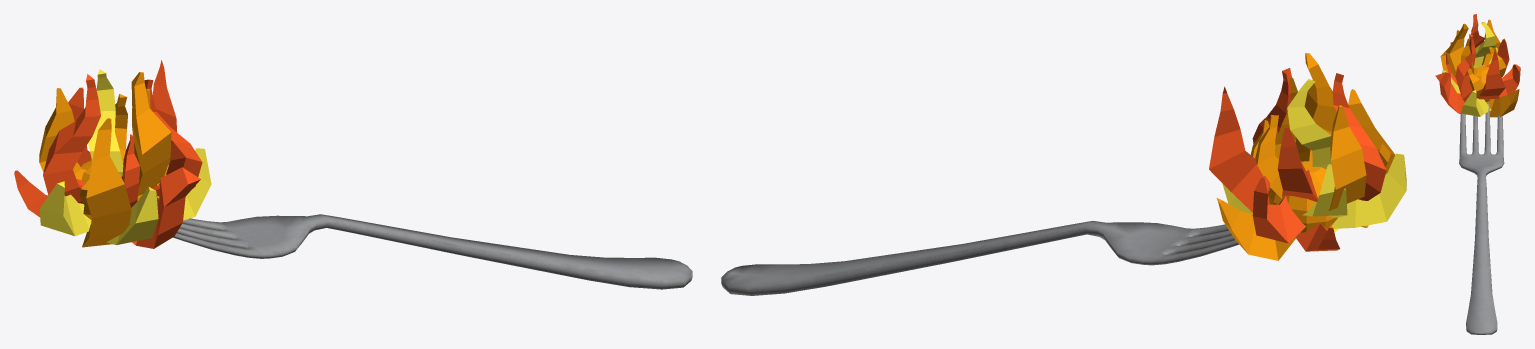
File: FireFork2.glb
3 renders of one model, left to right at view 1: azimuth 30°, elevation 25°; view 2: azimuth 150°, elevation 25°; view 3: azimuth 270°, elevation 25°, orthographic. The views are drawn at different scales.
Parts seen in each view (by area): view 1: Object_2, group702594773.001, group167038055, group702594773, group813435182, group1012330263, group1012330263.001, group1602184737, group167038055.001, group1762201146, group1012330263.002, group217930424 (+4 smaller); view 2: Object_2, group217930424, group1762201146, group1012330263, group1501086520, group1602184737, group1746021426, group167038055, group702594773, group740134887, group1374064128, group2112811785 (+4 smaller); view 3: Object_2, group217930424, group167038055.001, group813435182, group1746021426, group702594773, group1012330263.002, group1602184737, group1501086520, group167038055, group1762201146, group2112811785.001 (+8 smaller).
Boxes of the visible parts, left/top/right/bottom form: Object_2: left=173, top=214, right=692, bottom=289; group702594773.001: left=82, top=118, right=131, bottom=247; group167038055: left=43, top=74, right=100, bottom=203; group702594773: left=123, top=72, right=171, bottom=195; group813435182: left=132, top=167, right=200, bottom=248; group1012330263: left=40, top=181, right=91, bottom=236; group1012330263.001: left=106, top=186, right=158, bottom=245; group1602184737: left=88, top=69, right=123, bottom=176; group167038055.001: left=144, top=79, right=202, bottom=208; group1762201146: left=39, top=88, right=86, bottom=180; group1012330263.002: left=183, top=148, right=211, bottom=220; group217930424: left=152, top=60, right=177, bottom=132; Object_2: left=721, top=221, right=1238, bottom=295; group217930424: left=1209, top=86, right=1270, bottom=212; group1762201146: left=1328, top=105, right=1366, bottom=210; group1012330263: left=1331, top=153, right=1406, bottom=228; group1501086520: left=1252, top=176, right=1305, bottom=243; group1602184737: left=1287, top=79, right=1331, bottom=169; group1746021426: left=1216, top=198, right=1295, bottom=260; group167038055: left=1332, top=73, right=1386, bottom=200; group702594773: left=1295, top=53, right=1336, bottom=161; group740134887: left=1277, top=127, right=1317, bottom=201; group1374064128: left=1268, top=161, right=1337, bottom=232; group2112811785: left=1255, top=115, right=1282, bottom=198; Object_2: left=1459, top=103, right=1504, bottom=334; group217930424: left=1478, top=48, right=1505, bottom=99; group167038055.001: left=1455, top=34, right=1476, bottom=101; group813435182: left=1435, top=72, right=1466, bottom=114; group1746021426: left=1486, top=89, right=1519, bottom=117; group702594773: left=1446, top=23, right=1468, bottom=77; group1012330263.002: left=1461, top=90, right=1491, bottom=116; group1602184737: left=1473, top=22, right=1495, bottom=67; group1501086520: left=1499, top=64, right=1520, bottom=97; group167038055: left=1471, top=14, right=1484, bottom=47; group1762201146: left=1482, top=19, right=1500, bottom=65; group2112811785.001: left=1464, top=68, right=1483, bottom=102.
Bounding box in the file's own units: 3.17 × 1.6 × 0.7055.
9 materials, 1 textured.
